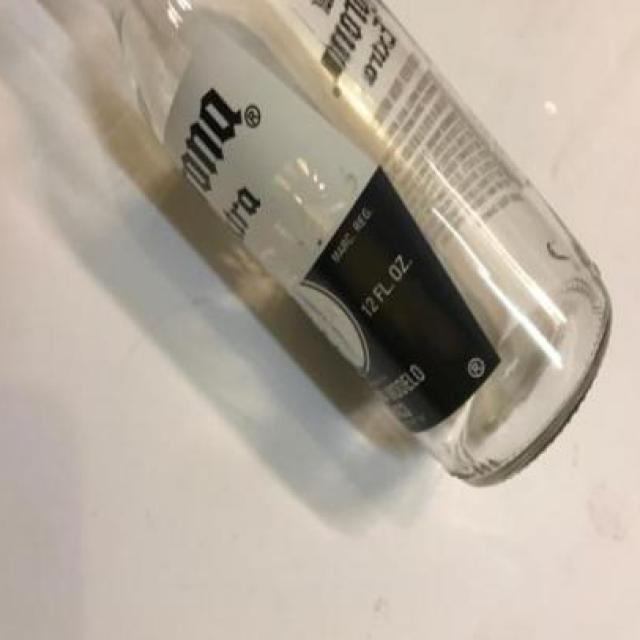kaca: (81, 0, 614, 487)
